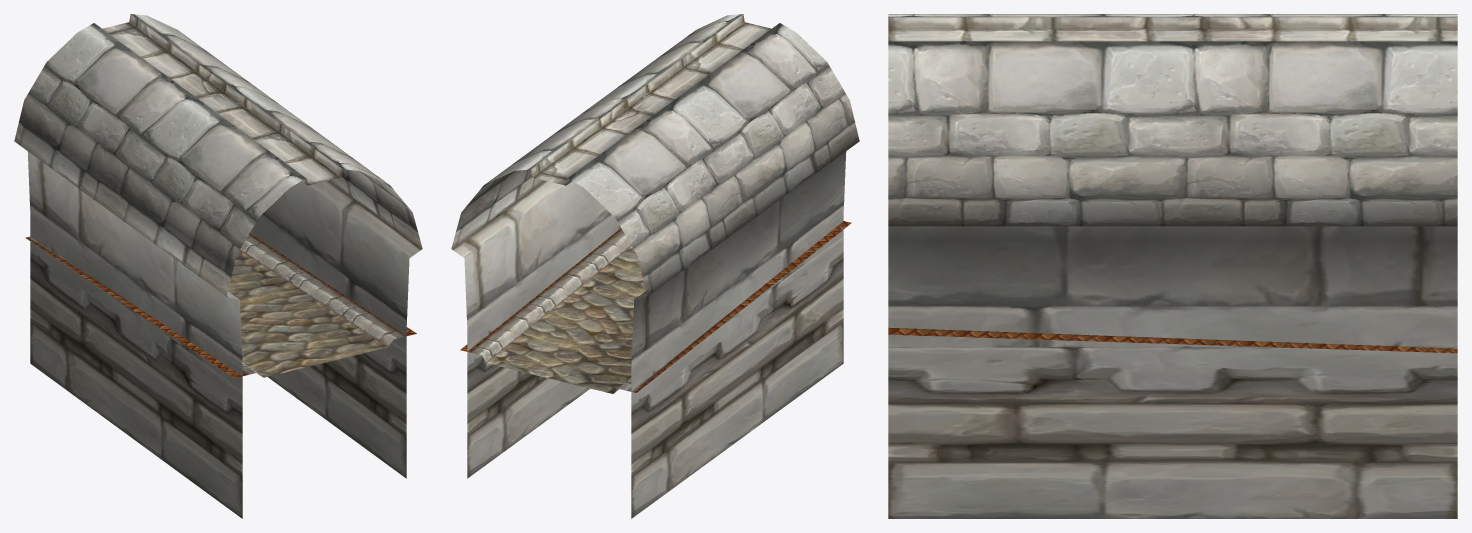
The model's file is stormwind_032.fbx.
3 renders of one model, left to right at view 1: azimuth 30°, elevation 25°; view 2: azimuth 150°, elevation 25°; view 3: azimuth 270°, elevation 25°, orthographic. The views are drawn at different scales.
Visible parts, largest first — view 1: stormwind_032_11, stormwind_032_4, stormwind_032_46, stormwind_032_5, stormwind_032_12; view 2: stormwind_032_11, stormwind_032_4, stormwind_032_46, stormwind_032_5, stormwind_032_12; view 3: stormwind_032_11, stormwind_032_4, stormwind_032_5, stormwind_032_12.
Part boxes in pixels (box(x1,y1,x2,y2)): stormwind_032_11: box(27, 151, 422, 518); stormwind_032_4: box(14, 14, 422, 296); stormwind_032_46: box(228, 250, 387, 377); stormwind_032_5: box(102, 14, 342, 185); stormwind_032_12: box(25, 233, 416, 378); stormwind_032_11: box(451, 151, 846, 518); stormwind_032_4: box(451, 14, 859, 296); stormwind_032_46: box(486, 246, 645, 393); stormwind_032_5: box(531, 14, 771, 185); stormwind_032_12: box(460, 221, 851, 393); stormwind_032_11: box(888, 226, 1457, 518); stormwind_032_4: box(888, 14, 1457, 226); stormwind_032_5: box(888, 17, 1457, 41); stormwind_032_12: box(888, 327, 1457, 353).
Size of the model in its own units: 10.07 by 15.95 by 18.89.
